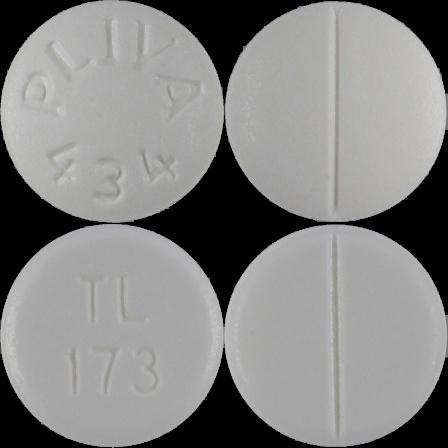61919-232: (0, 0, 224, 224)
